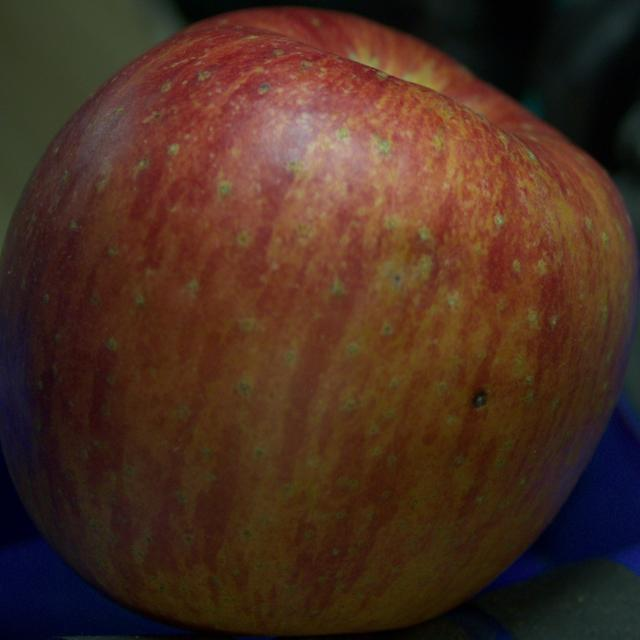apple: (0, 8, 639, 634)
pest: (473, 392, 487, 408)
